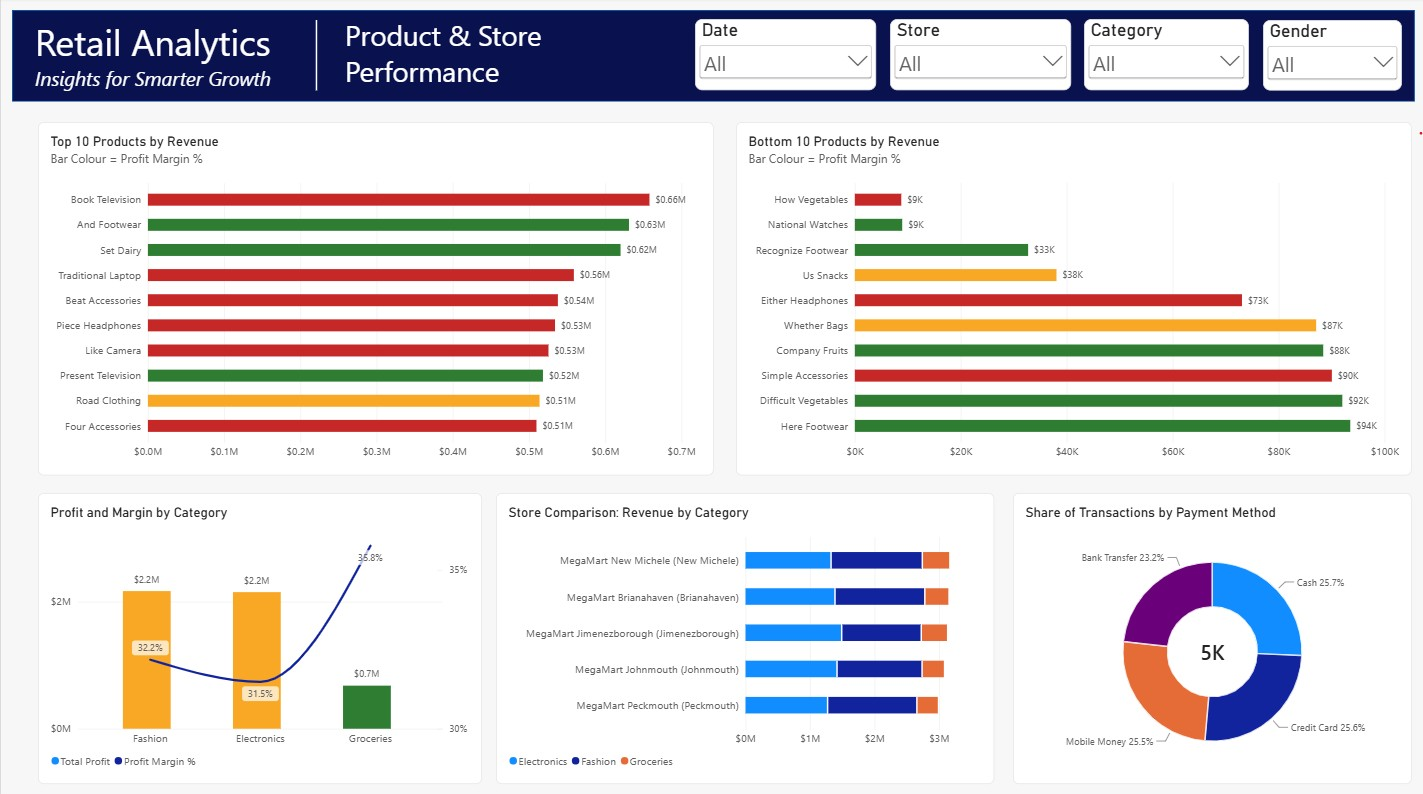

The page's visual inventory and layout, read from the dashboard file:
{"tool":"powerbi","page":{"name":"Product & Store Performance","canvas":[1920,1080],"ordinal":4},"visuals":[{"type":"shape","box":[15.4,17.6,1888.9,123.4],"z":0},{"type":"textbox","box":[46.3,26.4,348.2,114.6],"z":1000},{"type":"textbox","box":[463.6,25.2,451,115.9],"z":2000},{"type":"shape","box":[385.7,30.9,79.3,94.8],"z":3000},{"type":"slicer","fields":{"Values":["dim_customers.Gender"]},"box":[1699.3,30.9,187.3,94.8],"z":4000},{"type":"slicer","fields":{"Values":["dim_products.Category"]},"box":[1458.9,30.2,221.7,95.7],"z":5000},{"type":"slicer","fields":{"Values":["dim_stores.City"]},"box":[1196.9,30.2,244.4,95.7],"z":6000},{"type":"slicer","fields":{"Values":["dim_date.Year","dim_date.Quarter","dim_date.MonthName"]},"box":[934.8,30.2,244.4,95.7],"z":7000},{"type":"clusteredBarChart","title":"Top 10 Products by Revenue","fields":{"Category":["dim_products.ProductName"],"Y":["fact_sales.Total Revenue"]},"box":[49.6,167.8,910.4,475.6],"z":8000},{"type":"clusteredBarChart","title":"Bottom 10 Products by Revenue","fields":{"Category":["dim_products.ProductName"],"Y":["fact_sales.Total Revenue"]},"box":[989.2,167.8,910.4,475.6],"z":9000},{"type":"lineClusteredColumnComboChart","title":"Profit and Margin by Category","fields":{"Category":["dim_products.Category"],"Y":["fact_sales.Total Profit"],"Y2":["fact_sales.Profit Margin %"]},"box":[49.6,668.2,598.2,392.5],"z":10000},{"type":"barChart","title":"Store Comparison: Revenue by Category","fields":{"Category":["dim_stores.StoreLabel"],"Series":["dim_products.Category"],"Y":["fact_sales.Total Revenue"]},"box":[666.7,668.2,671.1,392.5],"z":11000},{"type":"donutChart","title":"Share of Transactions by Payment Method","fields":{"Category":["fact_sales.PaymentMethod"],"Y":["fact_sales.Transactions"]},"box":[1362.7,668.2,536.9,392.5],"z":12000}]}

Visuals, with their boxes in screenshot pixels (x1, y1, x2, y2), scaled from the page's 1920x1080 canvas onto the 1423x794 screenshot:
shape: left=11, top=13, right=1411, bottom=104
textbox: left=34, top=19, right=292, bottom=104
textbox: left=344, top=19, right=678, bottom=104
shape: left=286, top=23, right=345, bottom=92
slicer - dim_customers.Gender: left=1259, top=23, right=1398, bottom=92
slicer - dim_products.Category: left=1081, top=22, right=1246, bottom=93
slicer - dim_stores.City: left=887, top=22, right=1068, bottom=93
slicer - dim_date.Year x dim_date.Quarter: left=693, top=22, right=874, bottom=93
"Top 10 Products by Revenue" clusteredBarChart: left=37, top=123, right=712, bottom=473
"Bottom 10 Products by Revenue" clusteredBarChart: left=733, top=123, right=1408, bottom=473
"Profit and Margin by Category" lineClusteredColumnComboChart: left=37, top=491, right=480, bottom=780
"Store Comparison: Revenue by Category" barChart: left=494, top=491, right=992, bottom=780
"Share of Transactions by Payment Method" donutChart: left=1010, top=491, right=1408, bottom=780
